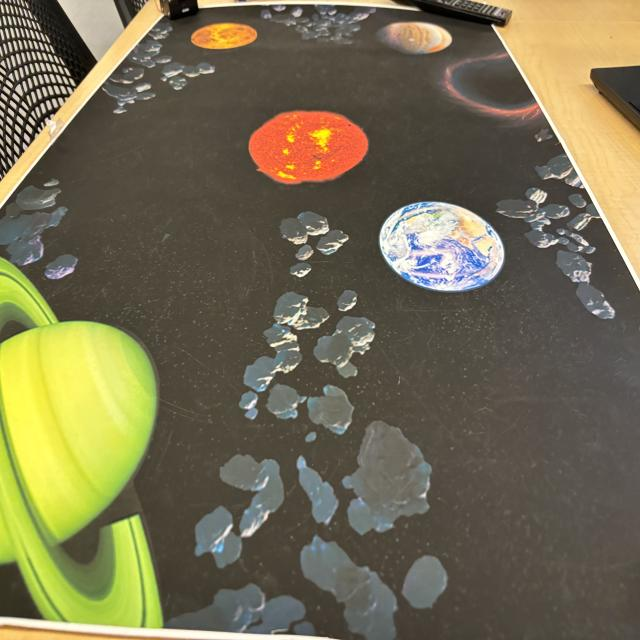Asteroids: (192, 212, 447, 635), (520, 144, 612, 315), (94, 18, 212, 114), (0, 171, 78, 280), (265, 2, 372, 47)
Black Hole: (444, 50, 544, 119)
Earth: (380, 199, 504, 296)
Jupiter: (383, 24, 451, 56)
Saturn: (0, 250, 176, 640)
Sun: (250, 110, 369, 184)
Venus: (193, 21, 256, 52)
